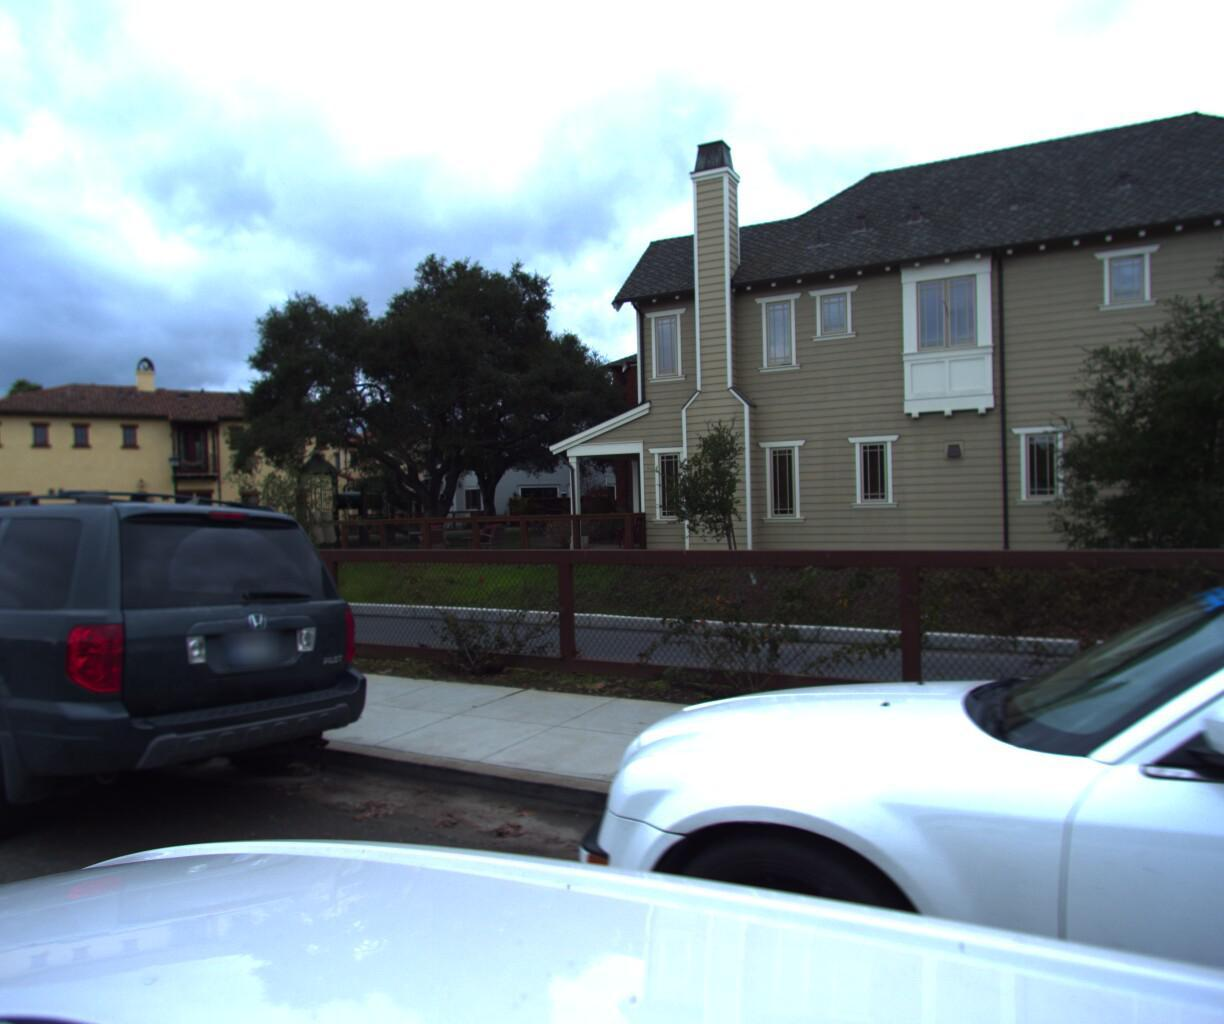car: (510, 539, 1224, 1024), (0, 491, 377, 912)
